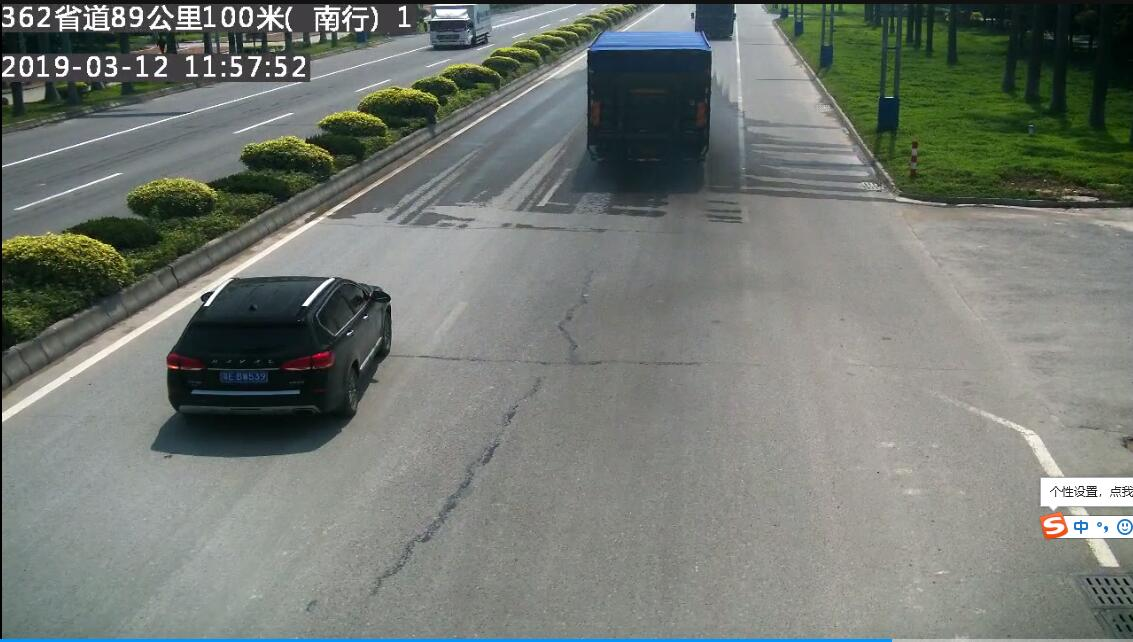smoke: (665, 165, 721, 253)
